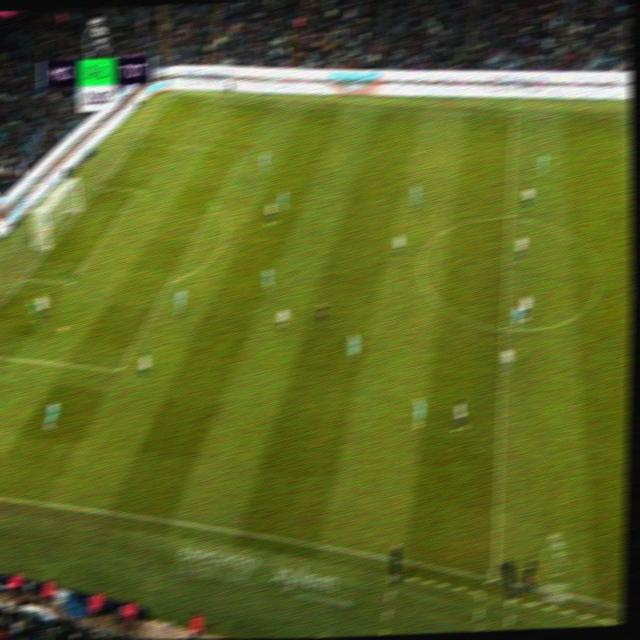bigarea_bottom_inner: (110, 363, 126, 377)
bigarea_top_inner: (237, 144, 252, 156), (131, 186, 146, 197)
bigarea_top_outter: (127, 137, 141, 149)
bottom_arc_area_intersection: (163, 275, 175, 290)
corner: (162, 92, 180, 105)
halfcircle_bottom: (494, 324, 510, 337)
halfcircle_top: (500, 211, 518, 225)
midline_bottom_intersection: (484, 568, 505, 589)
midline_top_intersection: (505, 108, 523, 122)
smallarea_bottom_inner: (60, 274, 77, 292)
smallarea_bottom_outter: (17, 273, 28, 285)
smallarea_top_outter: (92, 181, 105, 192)
top_arc_area_intersection: (208, 199, 223, 211)
